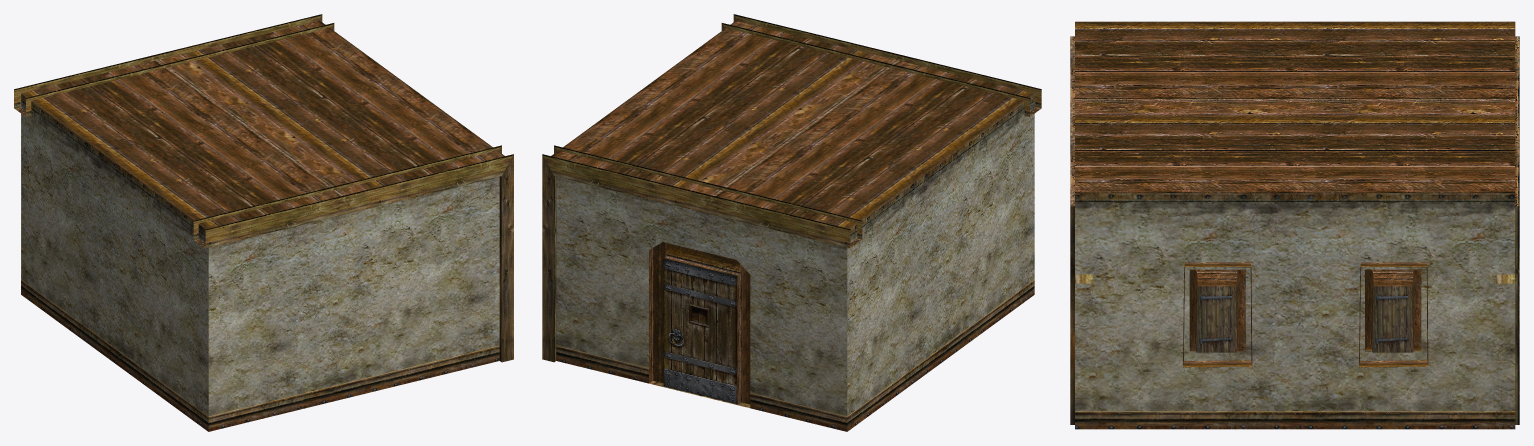
3 views of the same model, side by side, from view 1: azimuth 30°, elevation 25°; view 2: azimuth 150°, elevation 25°; view 3: azimuth 270°, elevation 25° (orthographic). The views are drawn at different scales.
Visible parts, largest first — view 1: tn2_r1_in-col; view 2: tn2_r1_in-col; view 3: tn2_r1_in-col.
Part boxes in pixels (<box>): tn2_r1_in-col: <box>14,14,513,431</box>; tn2_r1_in-col: <box>542,14,1041,431</box>; tn2_r1_in-col: <box>1070,21,1519,429</box>.
Size of the model in its own units: 4.86 by 3.01 by 5.04.
10 materials, 10 textured.
